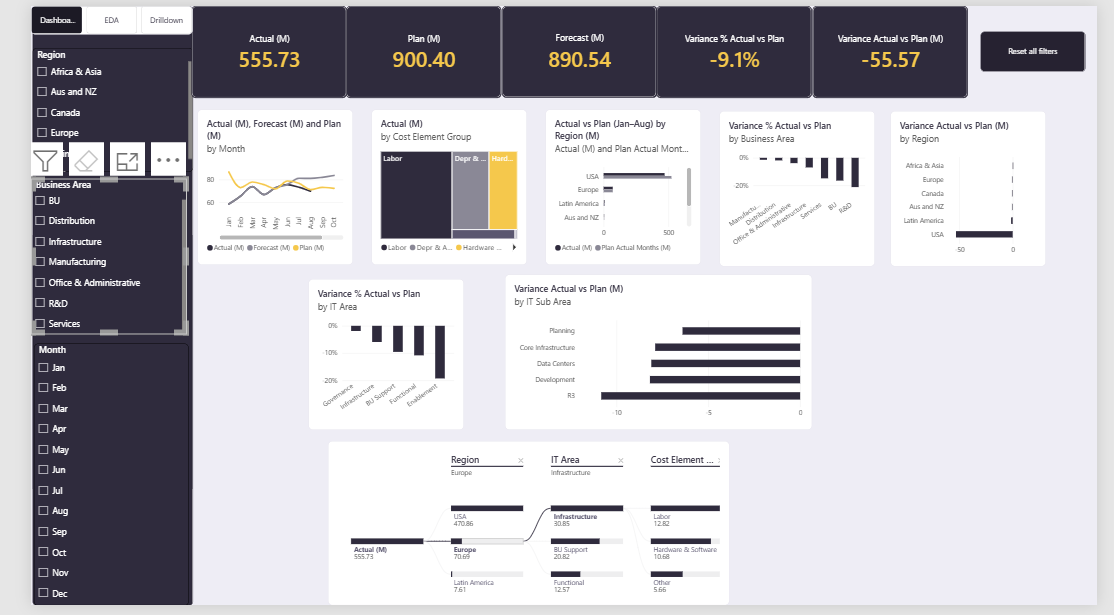

The page's visual inventory and layout, read from the dashboard file:
{"tool":"powerbi","page":{"name":"Dashboard","canvas":[1920,1080],"ordinal":0},"visuals":[{"type":"shape","box":[2.1,0,289.4,1080.9],"z":0},{"type":"slicer","fields":{"Values":["IT_Spend.Region"]},"box":[2.1,74.5,289.4,223.4],"z":1000},{"type":"slicer","fields":{"Values":["IT_Spend.Business Area"]},"box":[0,310.6,280.9,280.9],"z":2000},{"type":"slicer","fields":{"Values":["IT_Spend.Month"]},"box":[4.3,608.5,278.7,472.3],"z":3000},{"type":"cardVisual","title":"Actual (M)","fields":{"Data":["IT_Spend.Actual (M)"]},"box":[289.1,0,280,166],"z":4000},{"type":"cardVisual","fields":{"Data":["IT_Spend.Plan (M)"]},"box":[568.8,0,280,166],"z":5000},{"type":"cardVisual","title":"Plan (Jan–Aug)","fields":{"Data":["IT_Spend.Variance % Actual vs Plan"]},"box":[1127.7,0,280,166],"z":6000},{"type":"cardVisual","fields":{"Data":["IT_Spend.Forecast (M)"]},"box":[848.4,0,279.7,165.6],"z":7000},{"type":"cardVisual","fields":{"Data":["IT_Spend.Variance Actual vs Plan (M)"]},"box":[1407.8,0,280,166],"z":8000},{"type":"lineChart","fields":{"Category":["IT_Spend.Month"],"Y":["IT_Spend.Actual (M)","IT_Spend.Forecast (M)","IT_Spend.Plan (M)"]},"box":[300,187.5,280,280],"z":9000},{"type":"clusteredBarChart","title":"Actual vs Plan (Jan–Aug) by Region (M)","fields":{"Category":["IT_Spend.Region"],"Y":["IT_Spend.Actual (M)","IT_Spend.Plan Actual Months (M)"]},"box":[928.1,187.5,280,280],"z":10000},{"type":"clusteredBarChart","fields":{"Category":["IT_Spend.Region"],"Y":["IT_Spend.Variance Actual vs Plan (M)"]},"box":[1548.4,189.1,280,280],"z":11000},{"type":"clusteredColumnChart","fields":{"Category":["IT_Spend.IT Area"],"Y":["IT_Spend.Variance % Actual vs Plan"]},"box":[500,491.5,279.7,271.9],"z":12000},{"type":"treemap","fields":{"Group":["IT_Spend.Cost Element Group"],"Values":["IT_Spend.Actual (M)"]},"box":[614.1,187.5,280,280],"z":13000},{"type":"clusteredColumnChart","fields":{"Category":["IT_Spend.Business Area"],"Y":["IT_Spend.Variance % Actual vs Plan"]},"box":[1240.6,189.1,280,280],"z":14000},{"type":"clusteredBarChart","fields":{"Category":["IT_Spend.IT Sub Area"],"Y":["IT_Spend.Variance Actual vs Plan (M)"]},"box":[855.3,485.1,553.1,279.7],"z":15000},{"type":"decompositionTreeVisual","fields":{"Analyze":["IT_Spend.Actual (M)"],"ExplainBy":["IT_Spend.Region","IT_Spend.IT Area","IT_Spend.Cost Element Group"]},"box":[534,785.1,723.4,295.7],"z":16000},{"type":"pageNavigator","box":[0,0,291.5,51.1],"z":16001},{"type":"actionButton","box":[1710.6,46.8,189.4,72.3],"z":16002}]}

Visuals, with their boxes on the page's 1920x1080 design canvas (x1, y1, x2, y2). These are canvas units, not pixel positions in the 1114x615 screenshot, which may show the page scaled, cropped or inside an application window:
shape: (2, 0, 292, 1081)
slicer - IT_Spend.Region: (2, 74, 292, 298)
slicer - IT_Spend.Business Area: (0, 311, 281, 592)
slicer - IT_Spend.Month: (4, 608, 283, 1081)
"Actual (M)" cardVisual: (289, 0, 569, 166)
cardVisual - IT_Spend.Plan (M): (569, 0, 849, 166)
"Plan (Jan–Aug)" cardVisual: (1128, 0, 1408, 166)
cardVisual - IT_Spend.Forecast (M): (848, 0, 1128, 166)
cardVisual - IT_Spend.Variance Actual vs Plan (M): (1408, 0, 1688, 166)
lineChart - IT_Spend.Month x IT_Spend.Actual (M): (300, 188, 580, 468)
"Actual vs Plan (Jan–Aug) by Region (M)" clusteredBarChart: (928, 188, 1208, 468)
clusteredBarChart - IT_Spend.Region x IT_Spend.Variance Actual vs Plan (M): (1548, 189, 1828, 469)
clusteredColumnChart - IT_Spend.IT Area x IT_Spend.Variance % Actual vs Plan: (500, 492, 780, 763)
treemap - IT_Spend.Cost Element Group x IT_Spend.Actual (M): (614, 188, 894, 468)
clusteredColumnChart - IT_Spend.Business Area x IT_Spend.Variance % Actual vs Plan: (1241, 189, 1521, 469)
clusteredBarChart - IT_Spend.IT Sub Area x IT_Spend.Variance Actual vs Plan (M): (855, 485, 1408, 765)
decompositionTreeVisual - IT_Spend.Actual (M) x IT_Spend.Region: (534, 785, 1257, 1081)
pageNavigator: (0, 0, 292, 51)
actionButton: (1711, 47, 1900, 119)
